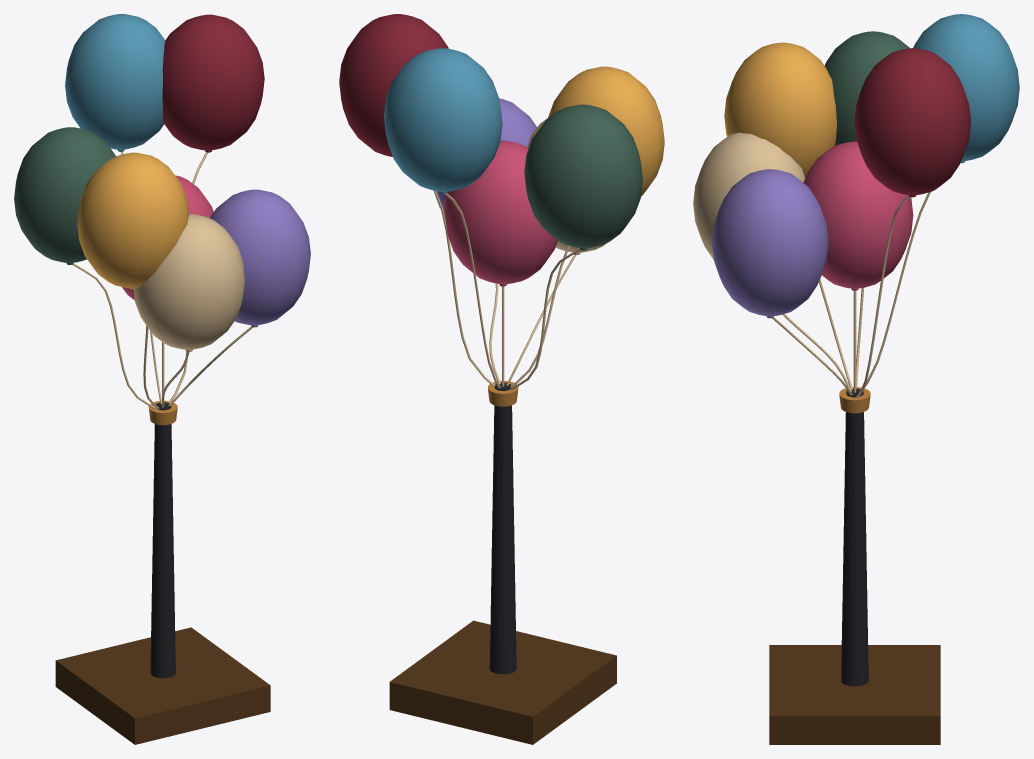
File: mia-balloon_stand.glb
3 renders of one model, left to right at view 1: azimuth 30°, elevation 25°; view 2: azimuth 150°, elevation 25°; view 3: azimuth 270°, elevation 25°, orthographic. The views are drawn at different scales.
Visible parts, largest first — view 1: Body_wood, Body_ivory, Body_velvet, Body_balloon-gold, Body_balloon-blue, Body_balloon-lilac, Body_sage, Body_iron, Body_balloon-rose; view 2: Body_wood, Body_sage, Body_balloon-blue, Body_balloon-rose, Body_velvet, Body_iron, Body_balloon-gold, Body_ivory, Body_balloon-lilac, Body_brass; view 3: Body_wood, Body_balloon-lilac, Body_velvet, Body_balloon-gold, Body_balloon-rose, Body_balloon-blue, Body_ivory, Body_iron, Body_sage, Body_brass.
Boxes of the visible parts, bbox=[...] form: Body_wood: bbox=[55, 627, 270, 744]; Body_ivory: bbox=[72, 151, 252, 409]; Body_velvet: bbox=[162, 14, 264, 152]; Body_balloon-gold: bbox=[77, 152, 189, 290]; Body_balloon-blue: bbox=[65, 14, 165, 151]; Body_balloon-lilac: bbox=[210, 189, 310, 327]; Body_sage: bbox=[14, 127, 116, 264]; Body_iron: bbox=[150, 402, 175, 678]; Body_balloon-rose: bbox=[122, 175, 213, 300]; Body_wood: bbox=[389, 620, 616, 744]; Body_sage: bbox=[524, 104, 642, 250]; Body_balloon-blue: bbox=[384, 48, 502, 193]; Body_balloon-rose: bbox=[443, 140, 557, 286]; Body_velvet: bbox=[339, 14, 448, 156]; Body_iron: bbox=[489, 382, 516, 674]; Body_balloon-gold: bbox=[548, 66, 664, 195]; Body_ivory: bbox=[434, 118, 606, 389]; Body_balloon-lilac: bbox=[434, 98, 536, 212]; Body_brass: bbox=[488, 381, 518, 406]; Body_wood: bbox=[769, 645, 940, 744]; Body_balloon-lilac: bbox=[712, 169, 828, 318]; Body_velvet: bbox=[854, 48, 970, 197]; Body_balloon-gold: bbox=[724, 42, 836, 177]; Body_balloon-rose: bbox=[803, 141, 913, 290]; Body_balloon-blue: bbox=[913, 14, 1019, 163]; Body_ivory: bbox=[693, 132, 930, 397]; Body_iron: bbox=[841, 388, 868, 686]; Body_sage: bbox=[824, 31, 909, 145]; Body_brass: bbox=[839, 387, 870, 413].
Bounding box in the file's own units: 1.13 × 2.72 × 1.16.
